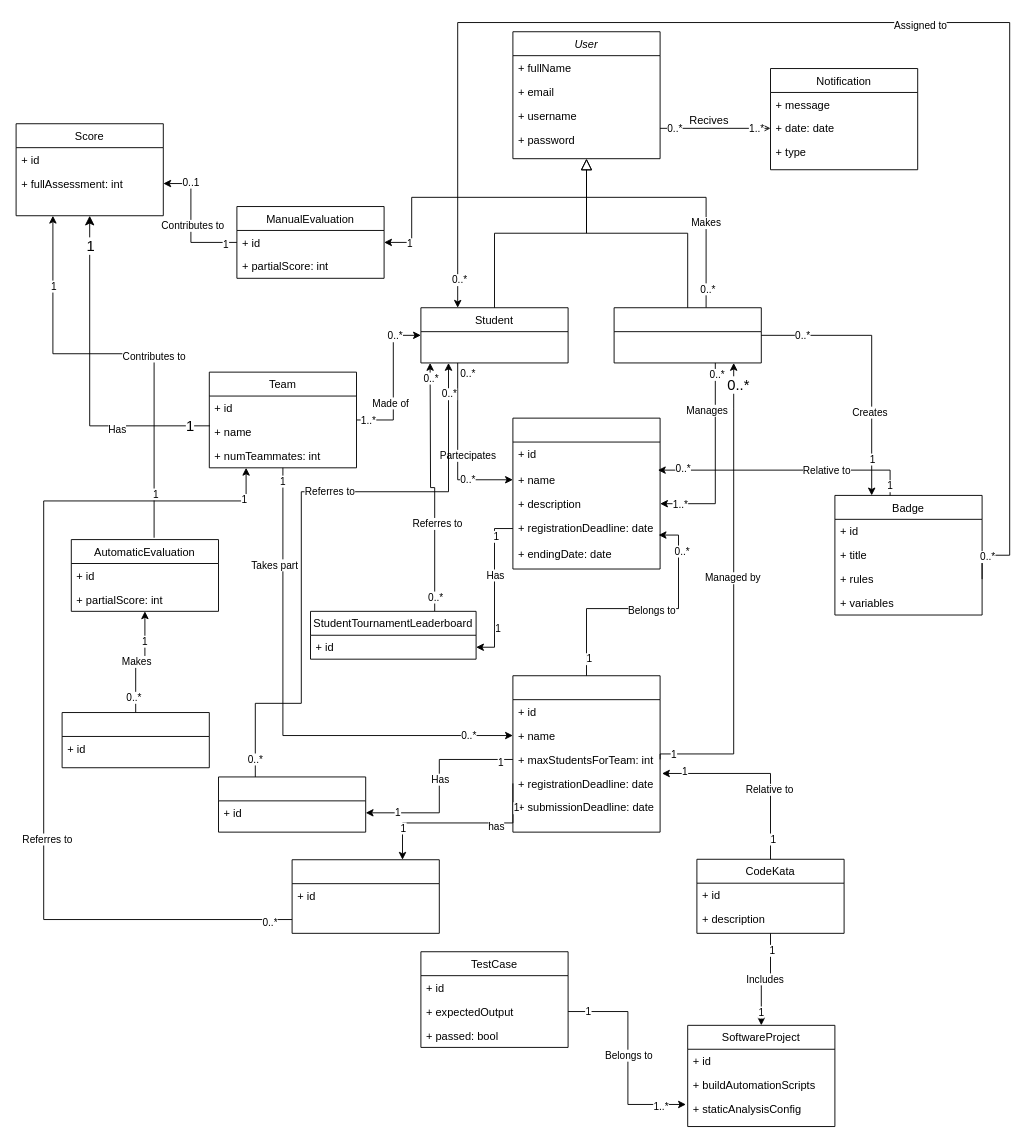
Some shapes in this 1033 by 1143 pixel diagram are drawn without their labels. Each missing label, with the box of its shape:
AutomaticEvaluationTool: (61, 712, 209, 768)
Battle: (512, 675, 660, 832)
Educator: (613, 307, 761, 363)
StudentBattleLeaderboard: (218, 776, 366, 832)
TeamBattleLeaderboard: (291, 859, 439, 933)
Tournament: (512, 417, 660, 569)
